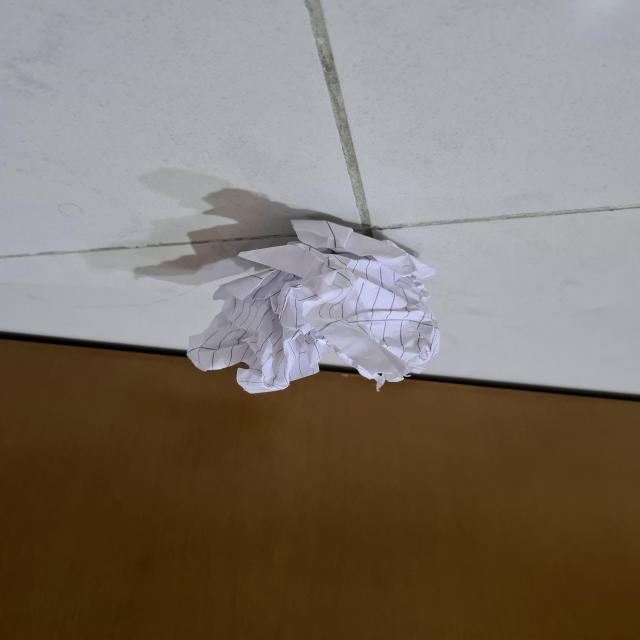Paper: (188, 206, 448, 416)
